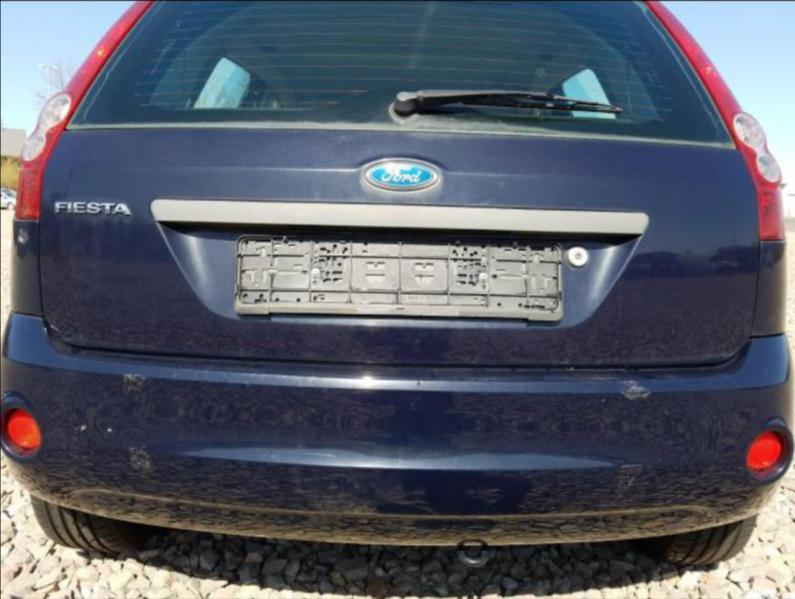Scratch: (13, 225, 30, 248)
